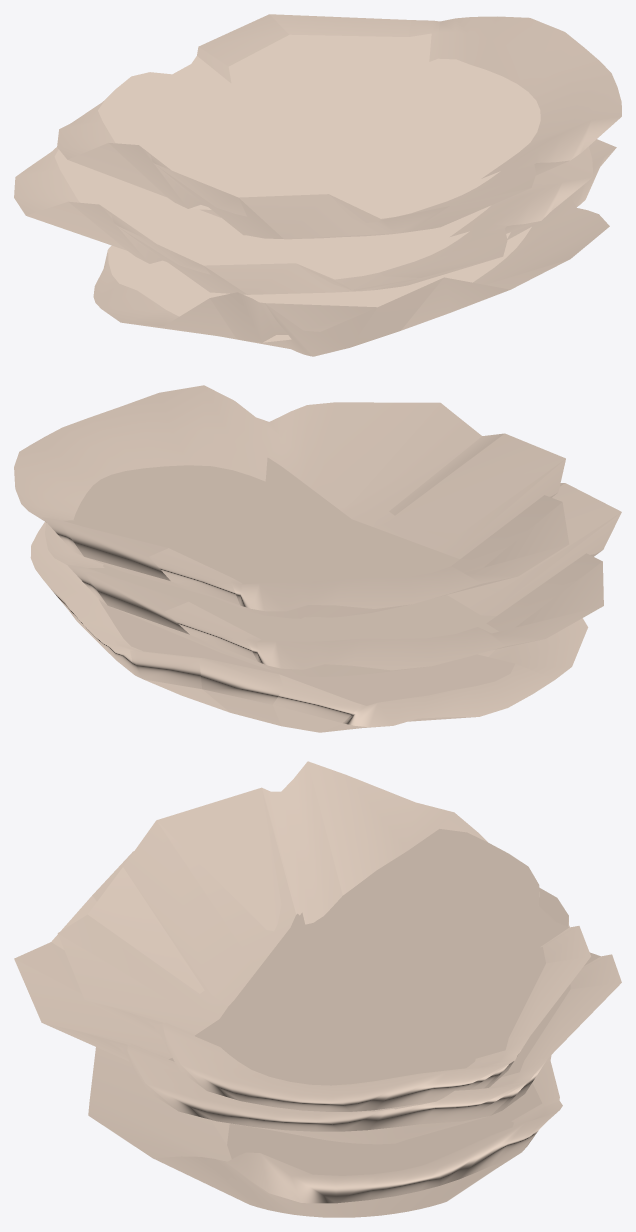
The model's file is Endoplasmic.fbx.
3 renders of one model, top to bottom at view 1: azimuth 30°, elevation 25°; view 2: azimuth 150°, elevation 25°; view 3: azimuth 270°, elevation 25°, orthographic. The views are drawn at different scales.
Parts seen in each view (by area): view 1: Endoplasmic2, Endoplasmic1, Endoplasmic; view 2: Endoplasmic2, Endoplasmic1, Endoplasmic; view 3: Endoplasmic2, Endoplasmic, Endoplasmic1.
Boxes of the visible parts, left/top/right/bottom form: Endoplasmic2: left=57, top=14, right=621, bottom=239; Endoplasmic1: left=14, top=146, right=593, bottom=294; Endoplasmic: left=93, top=139, right=616, bottom=356; Endoplasmic2: left=14, top=385, right=568, bottom=618; Endoplasmic1: left=45, top=483, right=621, bottom=676; Endoplasmic: left=30, top=522, right=588, bottom=732; Endoplasmic2: left=57, top=761, right=590, bottom=1112; Endoplasmic: left=88, top=1047, right=562, bottom=1217; Endoplasmic1: left=14, top=851, right=621, bottom=1144.
Size of the model in its own units: 472 by 203 by 388.
